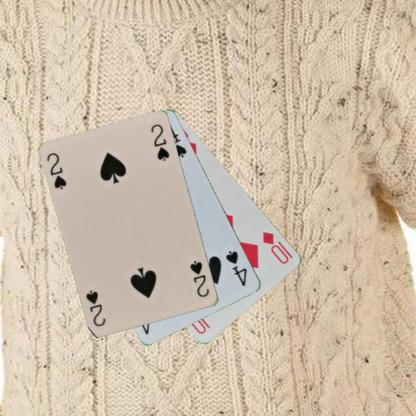10d: (260, 229, 295, 266)
2s: (45, 150, 68, 191), (188, 258, 211, 298)
4s: (223, 248, 249, 288)
